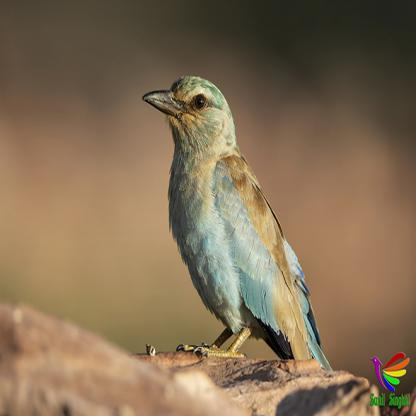Burung: (140, 76, 340, 370)
